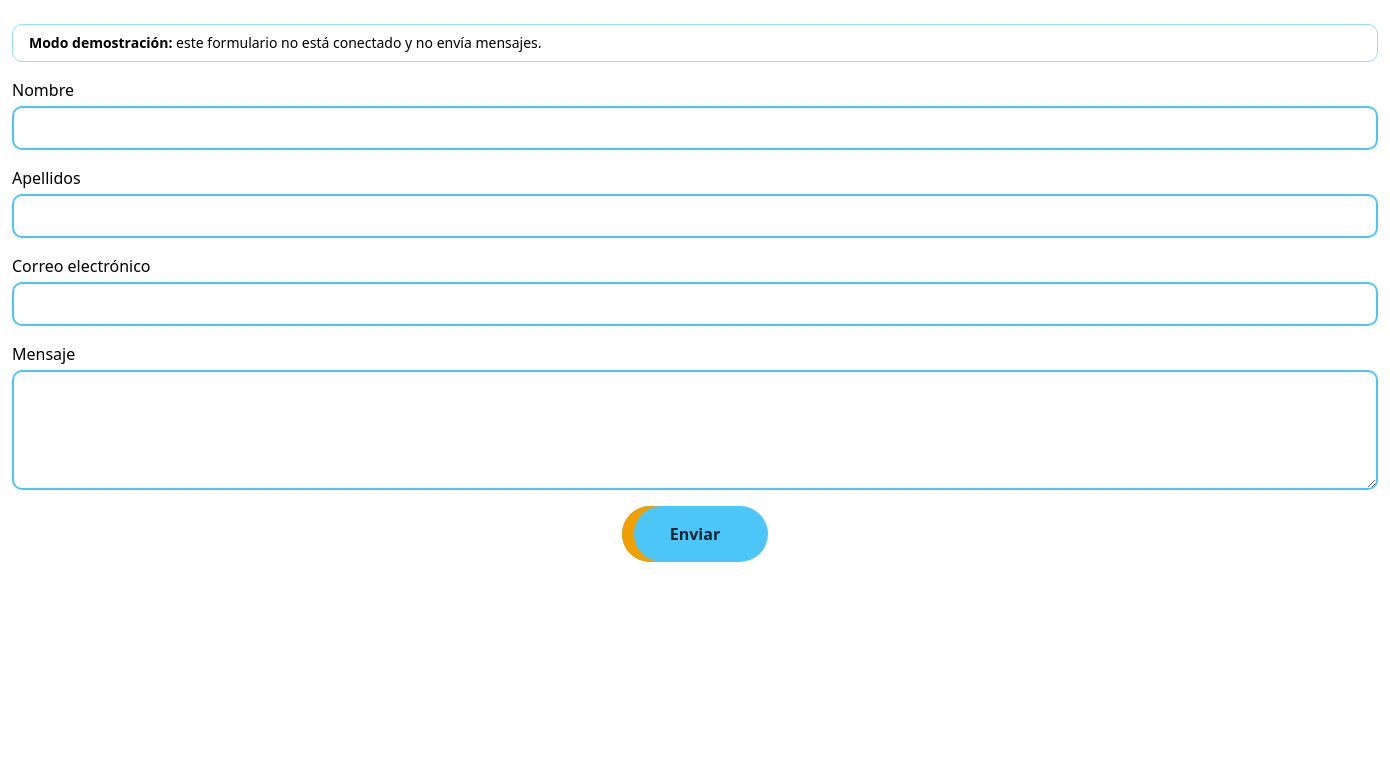
it: ContactForm validation › clears a field error as soon as the field is corrected
Click the button "Enviar" at (695,534), box left=622, top=506, right=768, bottom=562
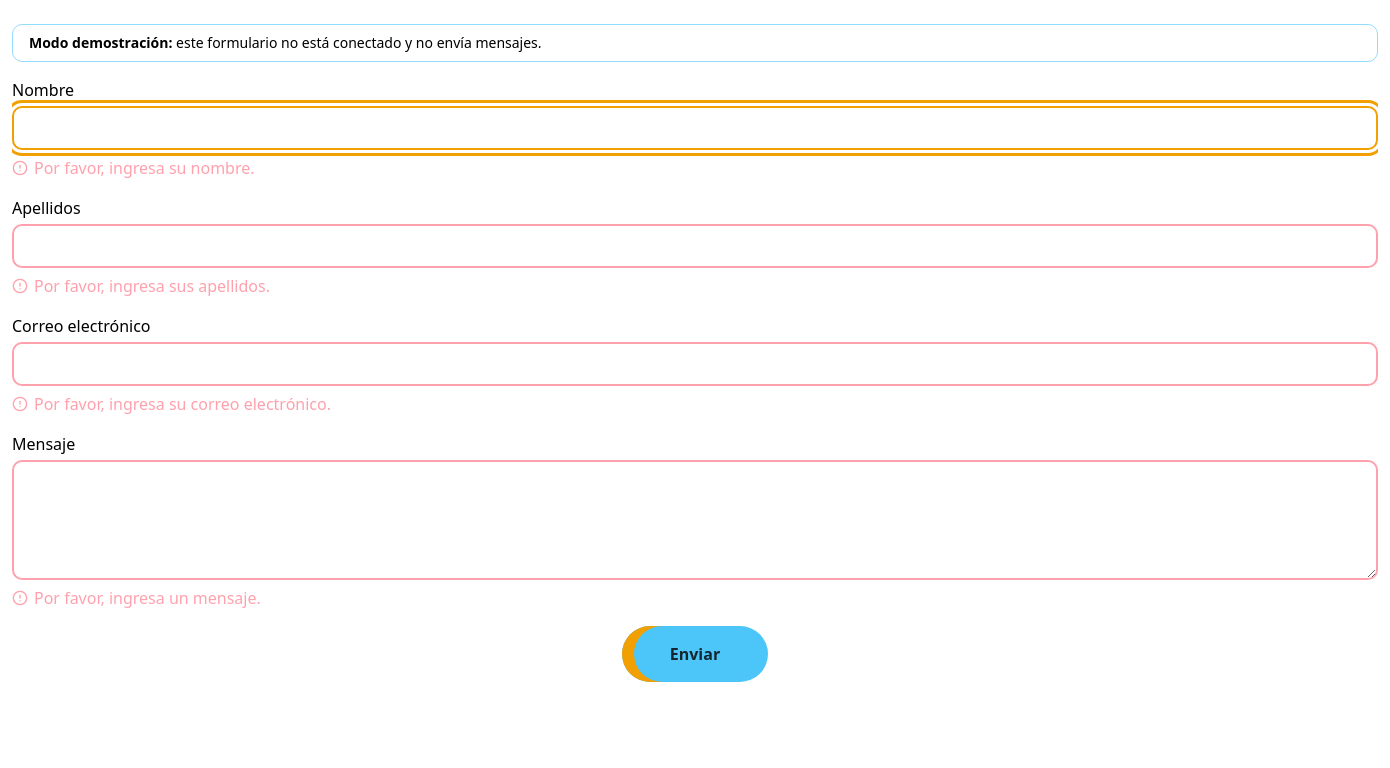
Type "Ana" into the field labelled "Nombre" at (695,128), box left=12, top=106, right=1378, bottom=150
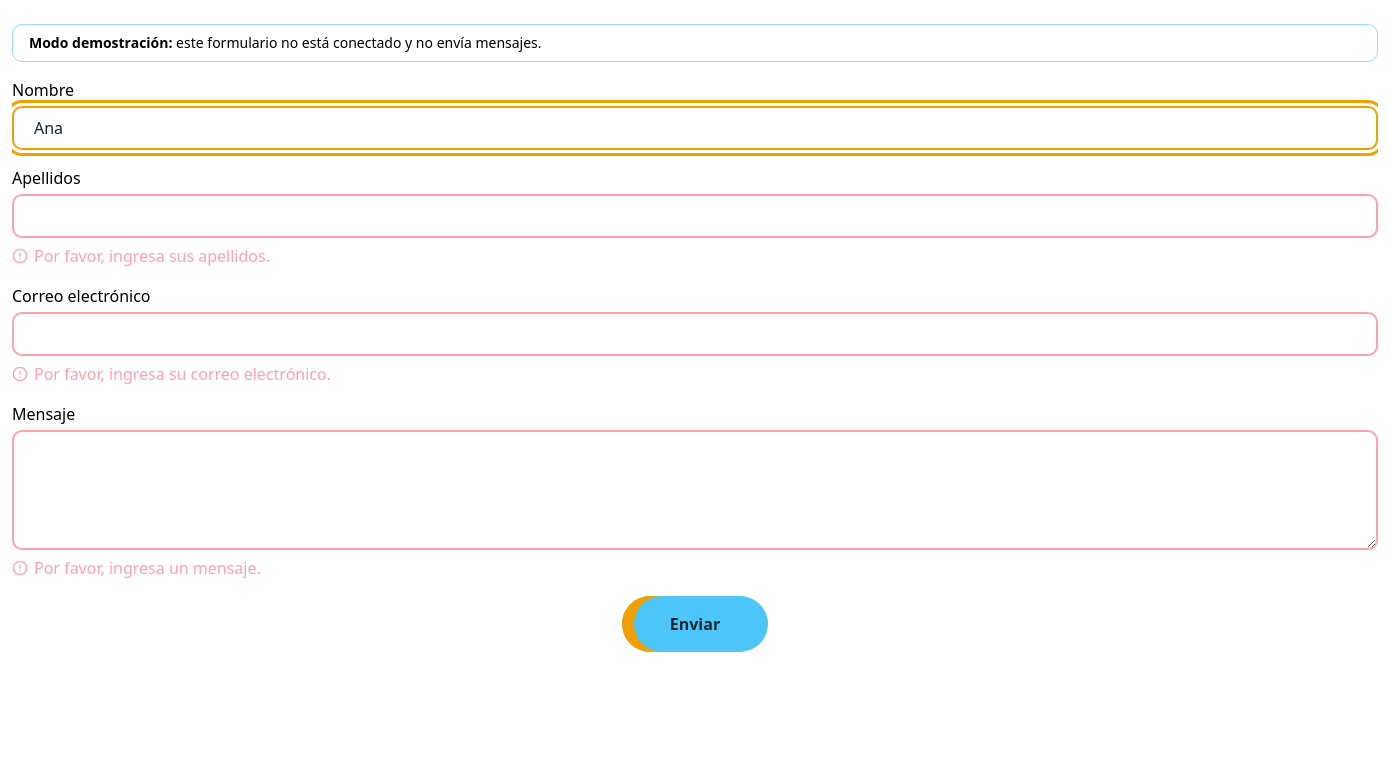
Expected: the text "Por favor, ingresa su nombre." is gone
